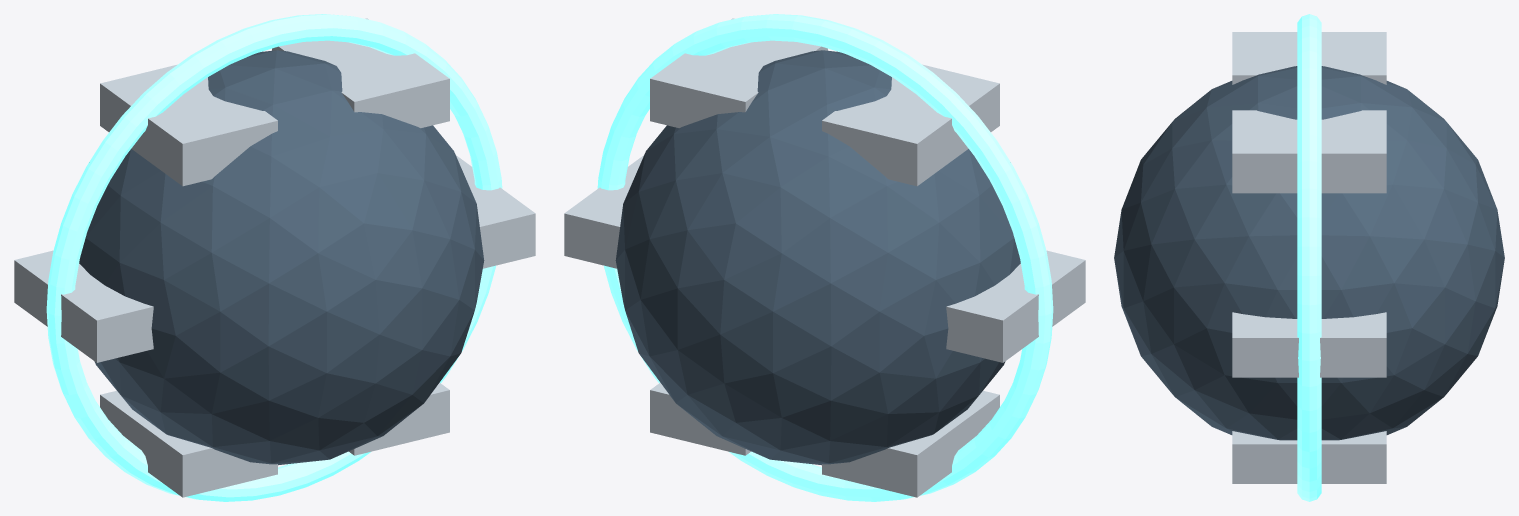
The picture shows the model from 3 angles, left to right: view 1: azimuth 30°, elevation 25°; view 2: azimuth 150°, elevation 25°; view 3: azimuth 270°, elevation 25°; orthographic projection. The views are drawn at different scales.
Visible parts, largest first — view 1: Core0, FieldRing8, Facet4, Facet5, Facet3, Facet6, Facet2, Facet7; view 2: Core0, FieldRing8, Facet4, Facet5, Facet3, Facet6, Facet2, Facet7; view 3: Core0, FieldRing8, Facet3, Facet2, Facet7, Facet4.
Part boxes in pixels (x1,y1,x2,y2): Core0: (79, 50, 484, 465); FieldRing8: (46, 14, 502, 501); Facet4: (100, 64, 277, 186); Facet5: (14, 250, 153, 362); Facet3: (272, 18, 449, 128); Facet6: (100, 390, 277, 497); Facet2: (456, 155, 535, 268); Facet7: (349, 382, 449, 455); Core0: (615, 50, 1020, 465); FieldRing8: (597, 14, 1053, 501); Facet4: (822, 64, 999, 186); Facet5: (946, 250, 1085, 362); Facet3: (650, 18, 827, 128); Facet6: (822, 390, 999, 497); Facet2: (564, 155, 643, 268); Facet7: (650, 382, 750, 455); Core0: (1114, 66, 1504, 440); FieldRing8: (1297, 14, 1321, 501); Facet3: (1232, 110, 1386, 193); Facet2: (1232, 312, 1386, 377); Facet7: (1232, 431, 1386, 483); Facet4: (1232, 32, 1386, 84).
Size of the model in its own units: 1.9 by 1.9 by 1.52.
